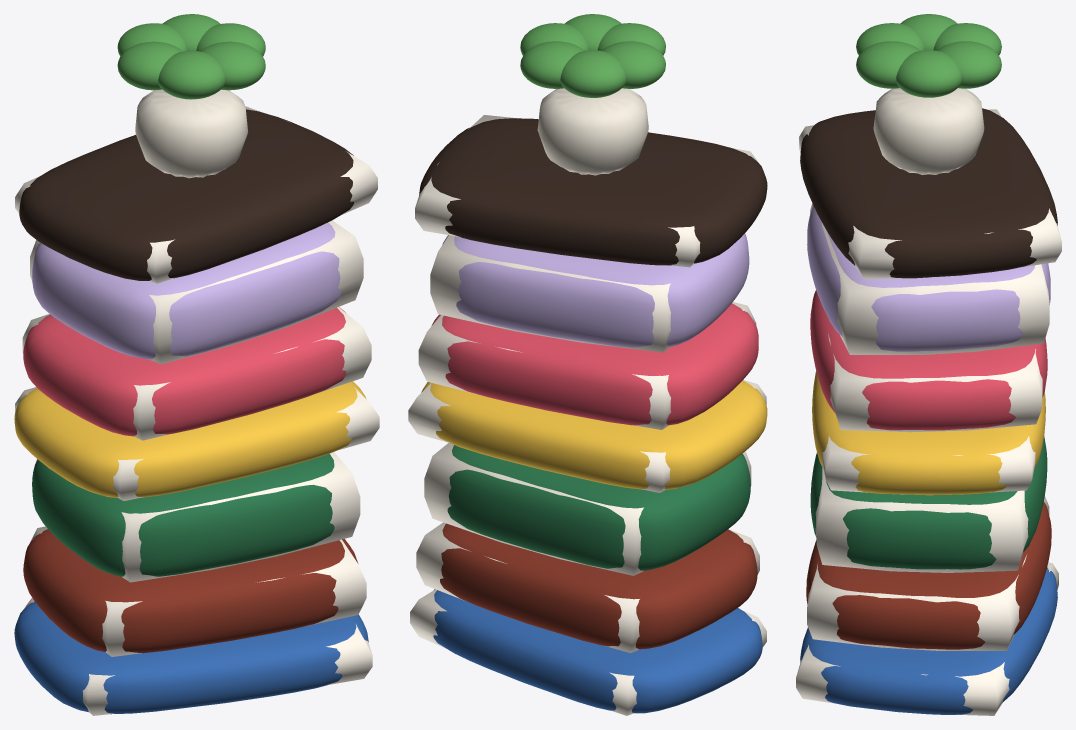
The model's file is deco_pila_libros.glb.
3 views of the same model, side by side, from view 1: azimuth 30°, elevation 25°; view 2: azimuth 150°, elevation 25°; view 3: azimuth 270°, elevation 25° (orthographic).
Parts seen in each view (by area): view 1: libro pila 6.001, libro pila 4.001, libro pila 1.001, libro pila 5.001, libro pila 2.001, libro pila 3.001, libro pila 0.001, matera pila.001, hojas pila 2.001, hojas pila 5.001, hojas pila 1.001, hojas pila 4.001 (+9 smaller); view 2: libro pila 6.001, libro pila 1.001, libro pila 4.001, libro pila 2.001, libro pila 5.001, libro pila 3.001, libro pila 0.001, matera pila.001, hojas pila 5.001, hojas pila 2.001, hojas pila 4.001, hojas pila 1.001 (+9 smaller); view 3: libro pila 6.001, libro pila 1.001, libro pila 4.001, libro pila 0.001, libro pila 5.001, libro pila 3.001, libro pila 2.001, matera pila.001, hojas pila 5.001, hojas pila 2.001, hojas pila 1.001, hojas pila 4.001 (+9 smaller).
Part boxes in pixels (x1,y1,x2,y2): libro pila 6.001: (19,109,353,280); libro pila 4.001: (23,307,346,436); libro pila 1.001: (23,529,358,653); libro pila 5.001: (32,222,341,359); libro pila 2.001: (32,454,334,576); libro pila 3.001: (14,381,366,497); libro pila 0.001: (14,601,368,714); matera pila.001: (135,89,248,178); hojas pila 2.001: (35,452,360,582); hojas pila 5.001: (30,220,363,364); hojas pila 1.001: (30,526,366,656); hojas pila 4.001: (22,307,371,440); libro pila 6.001: (419,118,767,265); libro pila 1.001: (440,523,757,649); libro pila 4.001: (431,303,758,425); libro pila 2.001: (447,445,750,570); libro pila 5.001: (442,233,749,347); libro pila 3.001: (421,380,767,489); libro pila 0.001: (433,589,762,713); matera pila.001: (537,88,648,175); hojas pila 5.001: (430,235,670,352); hojas pila 2.001: (424,443,751,575); hojas pila 4.001: (418,302,756,429); hojas pila 1.001: (416,522,759,652); libro pila 6.001: (800,108,1057,278); libro pila 1.001: (806,501,1051,649); libro pila 4.001: (810,290,1047,430); libro pila 0.001: (800,567,1057,714); libro pila 5.001: (807,205,1050,351); libro pila 3.001: (812,371,1045,495); libro pila 2.001: (810,436,1047,569); matera pila.001: (873,88,984,174); hojas pila 5.001: (810,203,1049,354); hojas pila 2.001: (815,467,1028,572); hojas pila 1.001: (807,496,1049,650); hojas pila 4.001: (828,334,1042,432).
Bounding box in the file's own units: 0.3227 × 0.639 × 0.2482.
